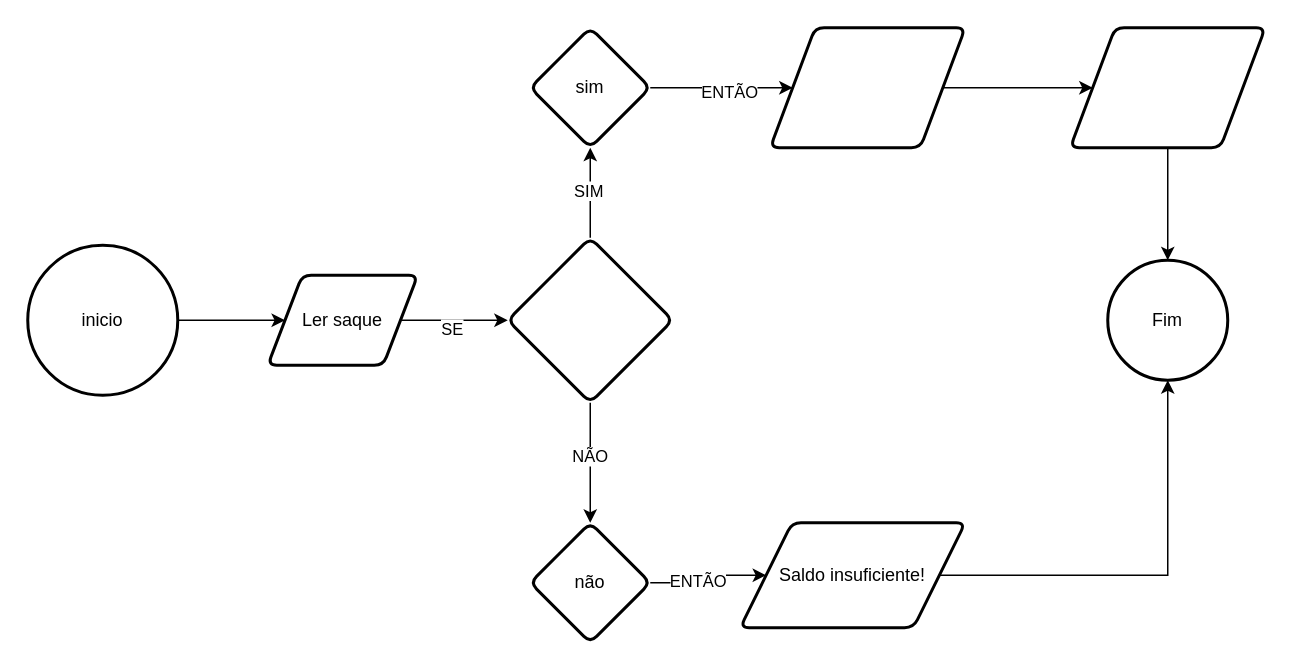
This 1292x669 diagram has some shape labels left out. The shapes that lost their labels are listed below. From the top down, each one's centre as x and y in pixels, then its label:
pixel 867 87: saldo - saque
pixel 1167 87: Saque realizado.
pixel 590 320: saque >= saldo
